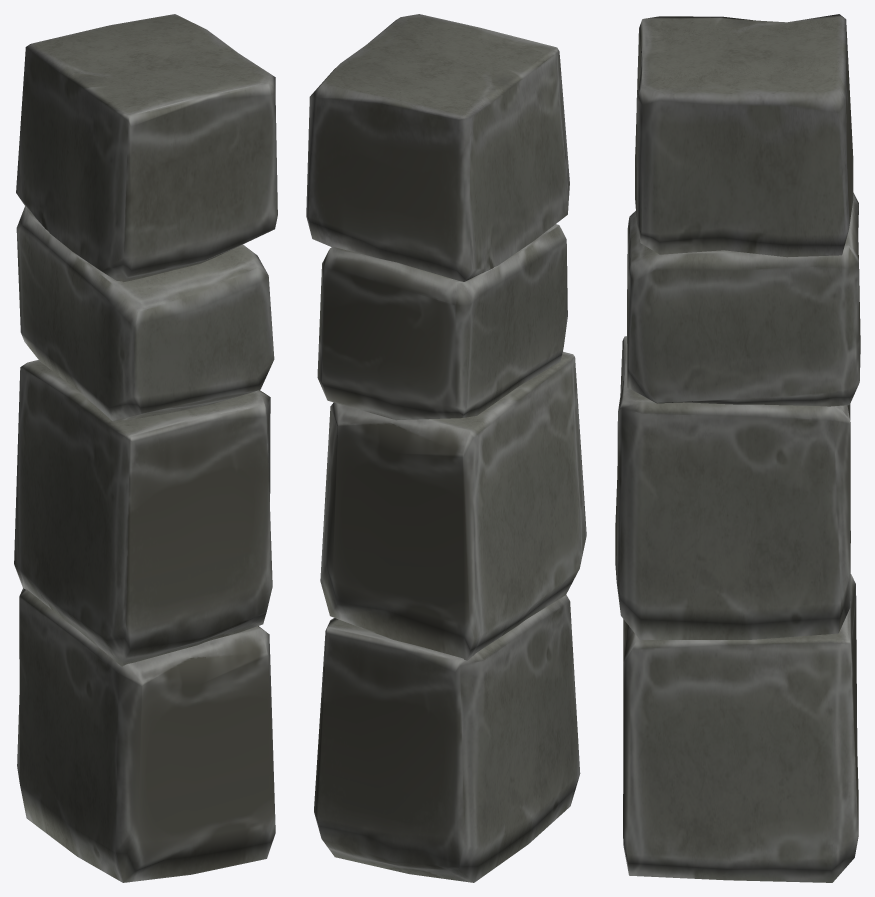
File: Railing_C.fbx
3 views of the same model, side by side, from view 1: azimuth 30°, elevation 25°; view 2: azimuth 150°, elevation 25°; view 3: azimuth 270°, elevation 25° (orthographic). The views are drawn at different scales.
Parts seen in each view (by area): view 1: Brick_LP.016; view 2: Brick_LP.016; view 3: Brick_LP.016.
Part boxes in pixels (x1,y1,x2,y2): Brick_LP.016: [14, 14, 277, 882]; Brick_LP.016: [306, 14, 586, 882]; Brick_LP.016: [615, 14, 860, 882].
Size of the model in its own units: 299 by 1248 by 346.
